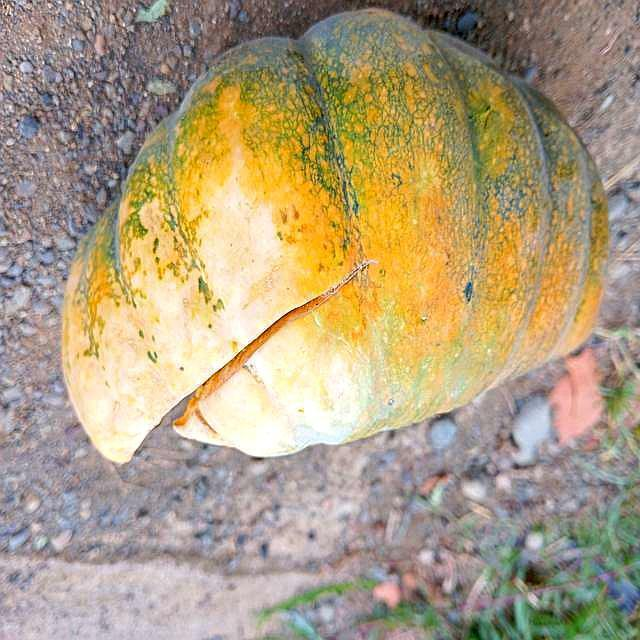Biodegradable: (57, 11, 611, 459)
